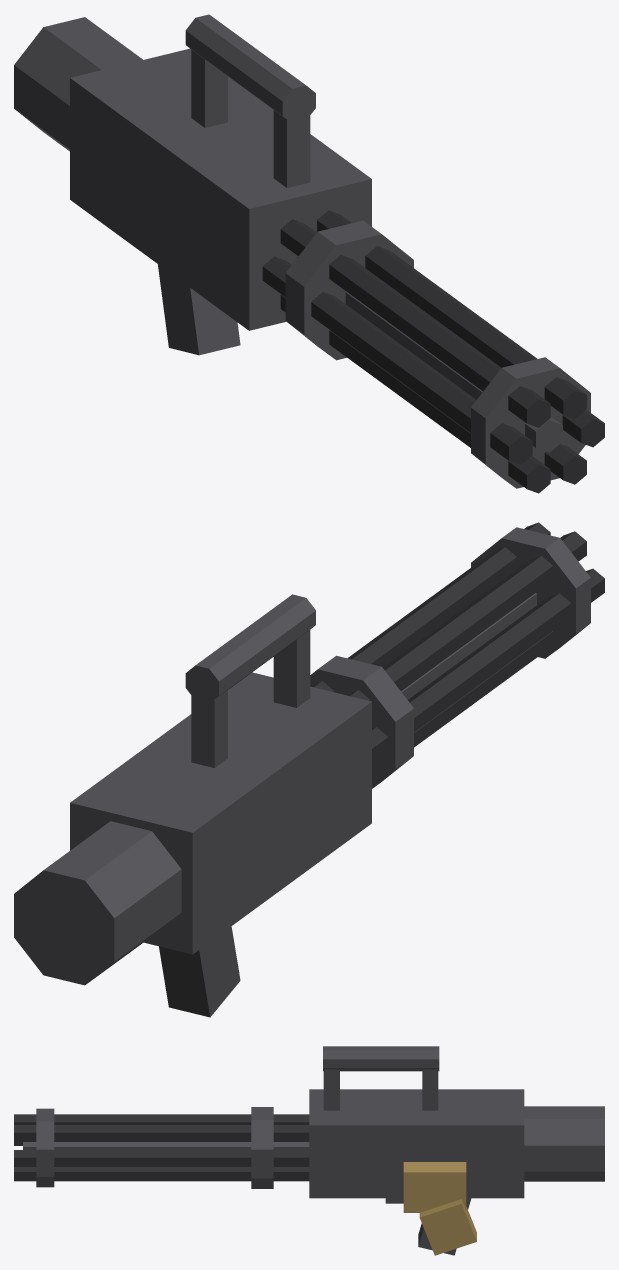
File: juggernaut-chaingun.glb
3 renders of one model, top to bottom at view 1: azimuth 30°, elevation 25°; view 2: azimuth 150°, elevation 25°; view 3: azimuth 270°, elevation 25°, orthographic. The views are drawn at different scales.
Parts seen in each view (by area): view 1: JuggernautChaingun, Barrels; view 2: JuggernautChaingun, Barrels; view 3: JuggernautChaingun, Barrels.
Part boxes in pixels (x1,y1,x2,y2): JuggernautChaingun: (14,14,371,355); Barrels: (262,210,604,493); JuggernautChaingun: (14,594,371,1017); Barrels: (310,522,604,788); JuggernautChaingun: (309,1046,604,1255); Barrels: (14,1107,309,1188).
Bounding box in the file's own units: 0.135 × 0.2482 × 0.66.
